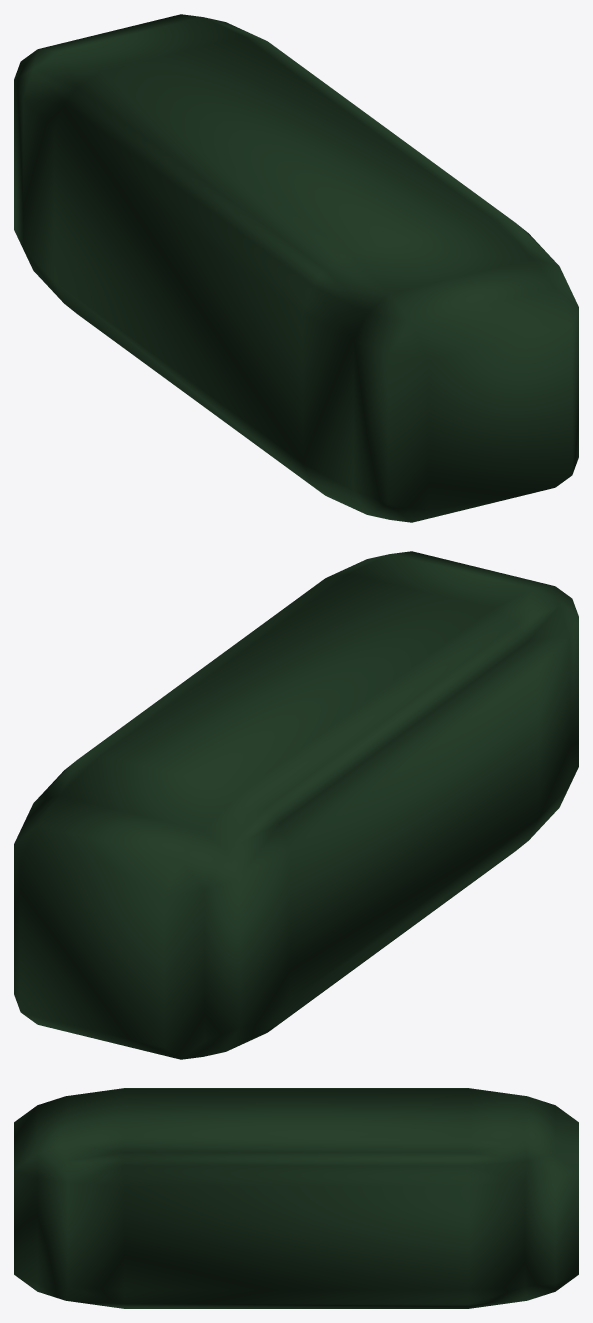
Rendered from bush.fbx.
3 renders of one model, top to bottom at view 1: azimuth 30°, elevation 25°; view 2: azimuth 150°, elevation 25°; view 3: azimuth 270°, elevation 25°, orthographic. The views are drawn at different scales.
Visible parts, largest first — view 1: bush6; view 2: bush6; view 3: bush6.
Part boxes in pixels (bbox=[...]): bush6: bbox=[14, 14, 578, 522]; bush6: bbox=[14, 551, 578, 1059]; bush6: bbox=[14, 1088, 578, 1308].
Bounding box in the file's own units: 50 × 50 × 150.
